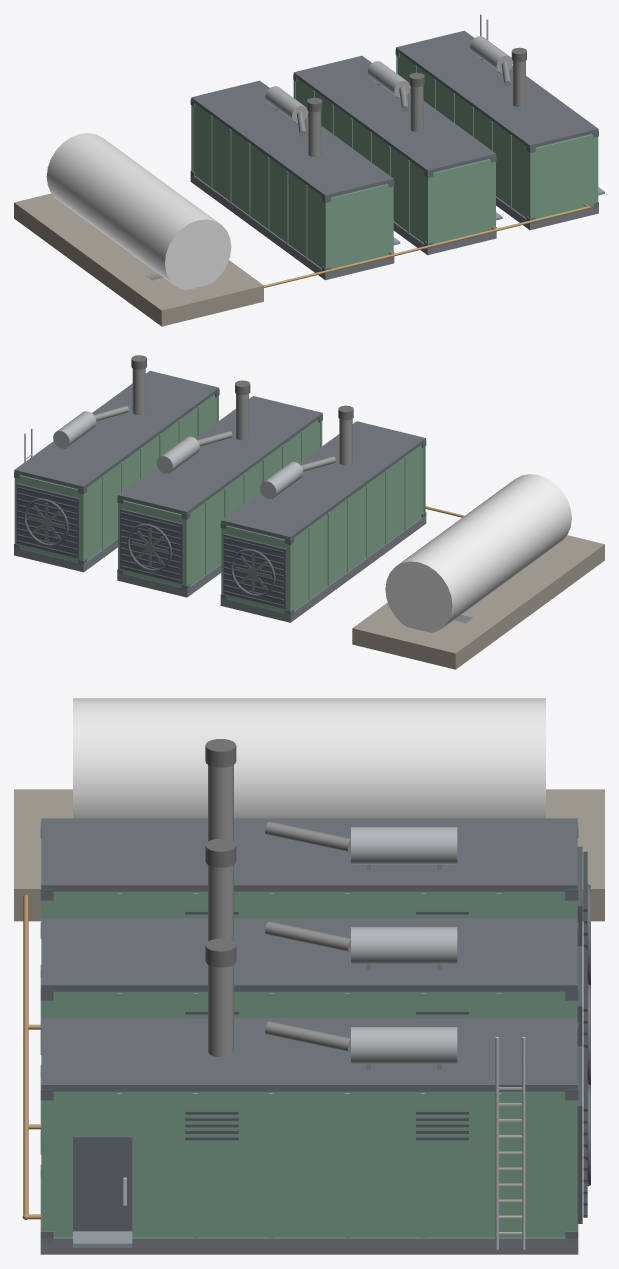
The model's file is gensets.glb.
The picture shows the model from 3 angles, top to bottom: view 1: azimuth 30°, elevation 25°; view 2: azimuth 150°, elevation 25°; view 3: azimuth 270°, elevation 25°; orthographic projection. The views are drawn at different scales.
Visible parts, largest first — view 1: object 58, object 61, object 39, object 49, object 30, object 11, object 10, object 29, object 48, object 20, object 1, object 40 (+9 smaller); view 2: object 58, object 61, object 39, object 11, object 49, object 30, inst (×3), object 20, object 1, object 38, object 19, object 57 (+12 smaller); view 3: object 1, object 58, object 11, object 30, object 49, object 39, object 20, object 2, object 61, inst (×4), object 12, object 70 (+18 smaller).
Boxes of the visible parts, <box> form: object 58: <box>46,133,231,289</box>; object 61: <box>14,193,263,326</box>; object 39: <box>193,104,387,268</box>; object 49: <box>191,80,393,197</box>; object 30: <box>293,55,496,172</box>; object 11: <box>396,30,598,147</box>; object 10: <box>529,134,598,218</box>; object 29: <box>426,159,495,243</box>; object 48: <box>324,184,393,268</box>; object 20: <box>295,79,489,243</box>; object 1: <box>398,54,592,218</box>; object 40: <box>190,175,394,280</box>; object 58: <box>385,474,571,632</box>; object 61: <box>352,535,604,669</box>; object 39: <box>227,444,423,610</box>; object 11: <box>14,370,219,488</box>; object 49: <box>221,421,425,539</box>; object 30: <box>117,396,322,513</box>; inst (×3): <box>17,486,283,606</box>; object 20: <box>123,419,320,585</box>; object 1: <box>20,394,216,560</box>; object 38: <box>120,508,183,583</box>; object 19: <box>16,483,79,558</box>; object 57: <box>223,533,286,608</box>; object 1: <box>46,1091,572,1237</box>; object 58: <box>73,698,545,818</box>; object 11: <box>41,1018,577,1091</box>; object 30: <box>41,918,577,991</box>; object 49: <box>41,818,577,891</box>; object 39: <box>46,891,572,918</box>; object 20: <box>46,991,572,1018</box>; object 2: <box>40,1177,578,1254</box>; object 61: <box>14,789,604,921</box>; inst (×4): <box>185,851,590,1234</box>; object 12: <box>73,1136,132,1231</box>; object 70: <box>351,827,457,864</box>.
Size of the model in its own units: 17.9 by 5.15 by 10.
